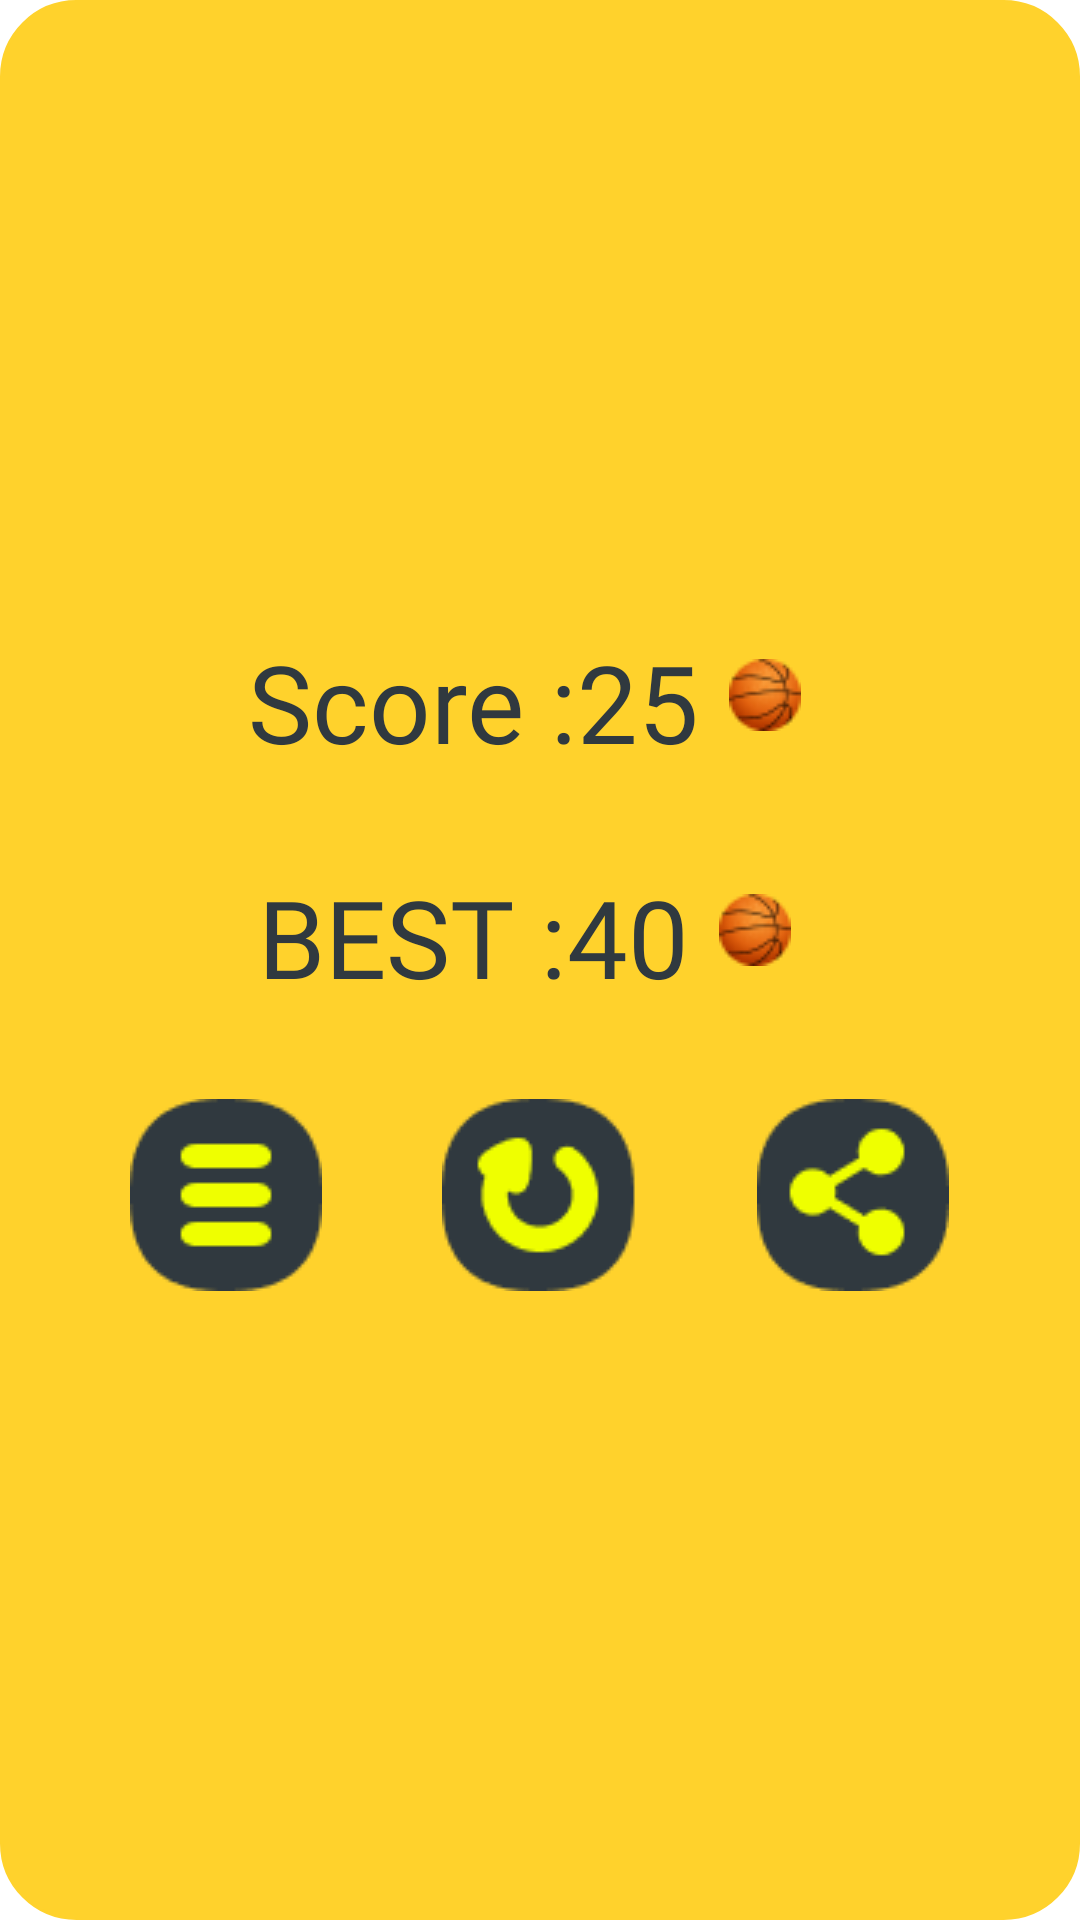

Icon click points for this 1080*1920 phone screenshot, format point (x, y):
basket ball: point (765, 695), point (755, 930)
share: point (853, 1195)
